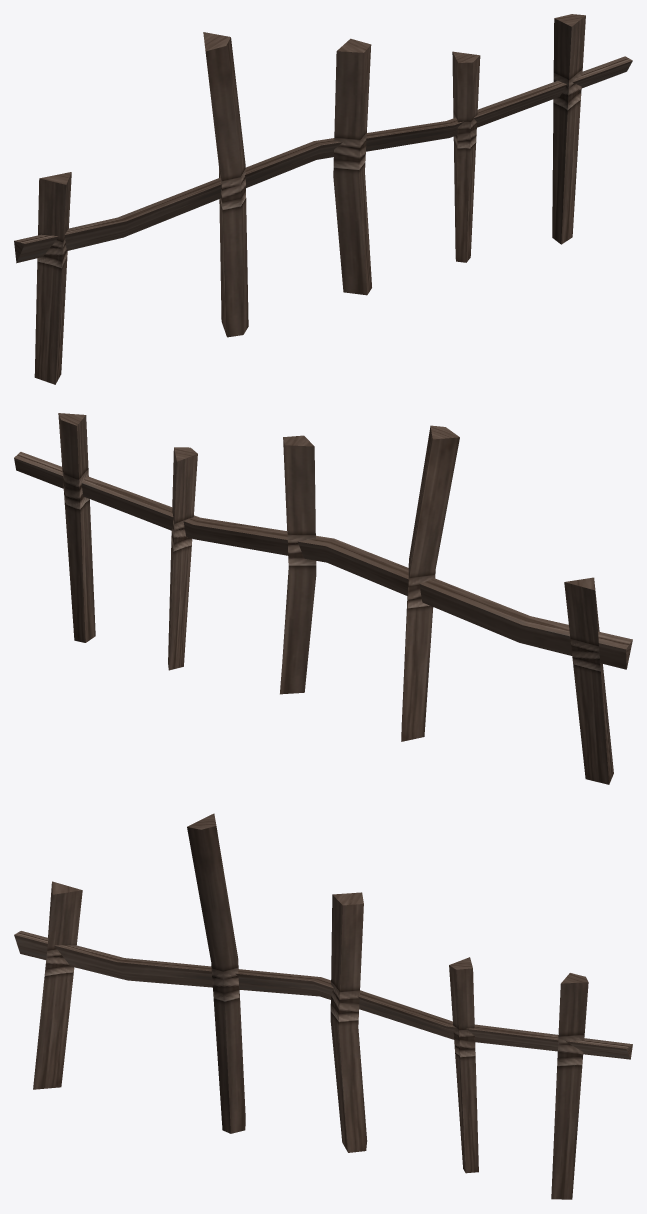
Rendered from handan_field_a_r11.fbx.
3 renders of one model, top to bottom at view 1: azimuth 30°, elevation 25°; view 2: azimuth 150°, elevation 25°; view 3: azimuth 330°, elevation 25°, orthographic.
Parts seen in each view (by area): view 1: handan_field_a_r11; view 2: handan_field_a_r11; view 3: handan_field_a_r11.
Part boxes in pixels (x1,y1,x2,y2): handan_field_a_r11: (14, 14, 632, 384); handan_field_a_r11: (14, 413, 632, 784); handan_field_a_r11: (14, 813, 632, 1199).
Size of the model in its own units: 433 by 207 by 29.96.
